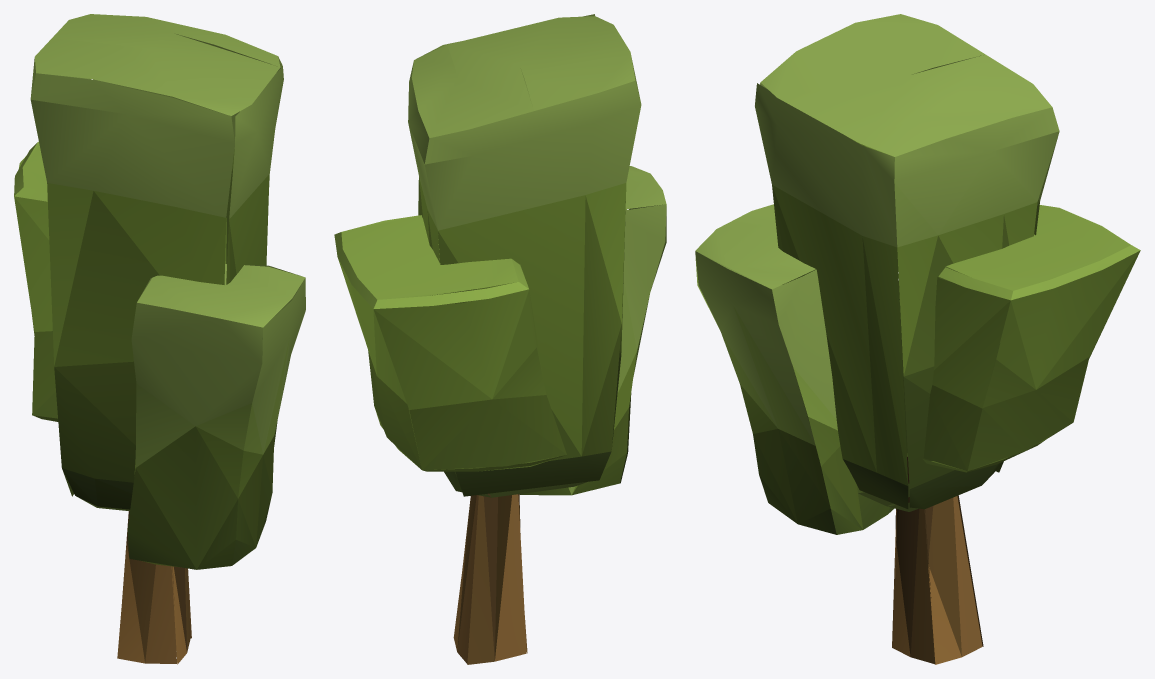
File: angular_tree_block__spring_low.glb
The picture shows the model from 3 angles, left to right: view 1: azimuth 30°, elevation 25°; view 2: azimuth 150°, elevation 25°; view 3: azimuth 270°, elevation 25°; orthographic projection. The views are drawn at different scales.
Bounding box in the file's own units: 2.14 × 4.8 × 3.36.
